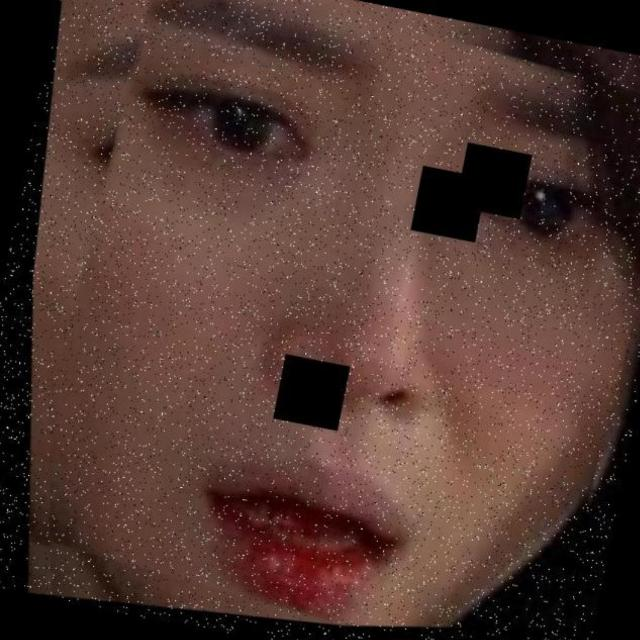Surprised: (59, 20, 615, 640)
